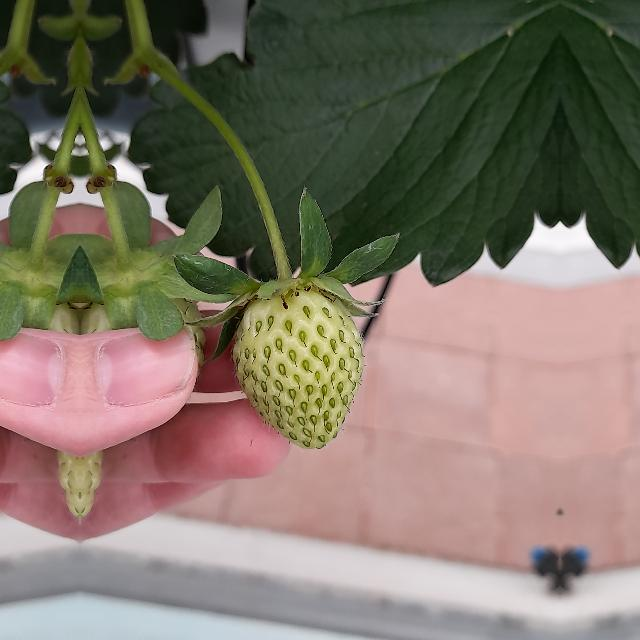Health_25: (232, 289, 364, 449)
